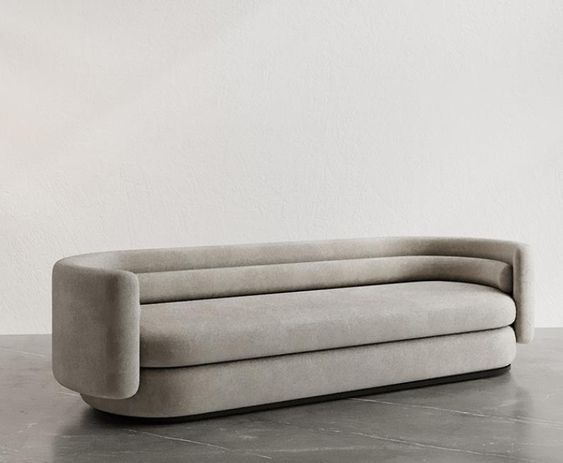3seatersofa: (53, 236, 534, 420)
backrest: (74, 234, 428, 305)
base: (83, 327, 514, 415)
leftarmrest: (429, 237, 535, 342)
leg: (93, 366, 509, 425)
rightarmrest: (52, 259, 140, 398)
seat: (141, 281, 515, 366)
